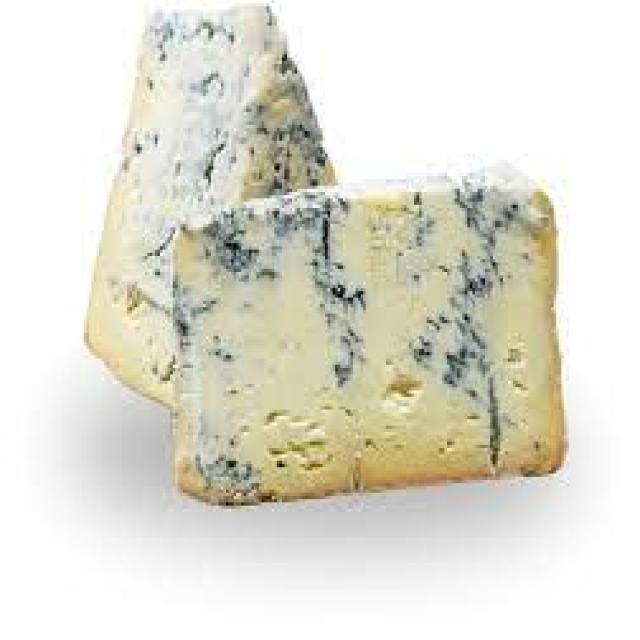Cheese: (167, 154, 569, 525)
